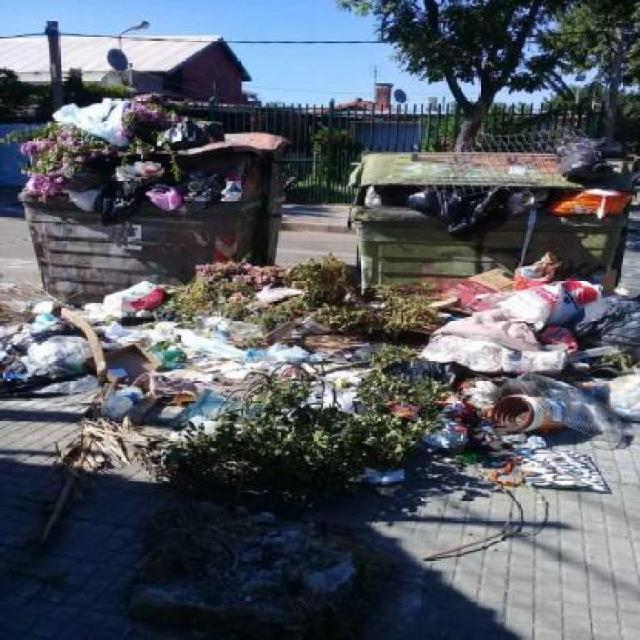garbage: (3, 260, 610, 426), (221, 268, 626, 427), (54, 394, 512, 508), (92, 520, 388, 636), (0, 100, 188, 207)
